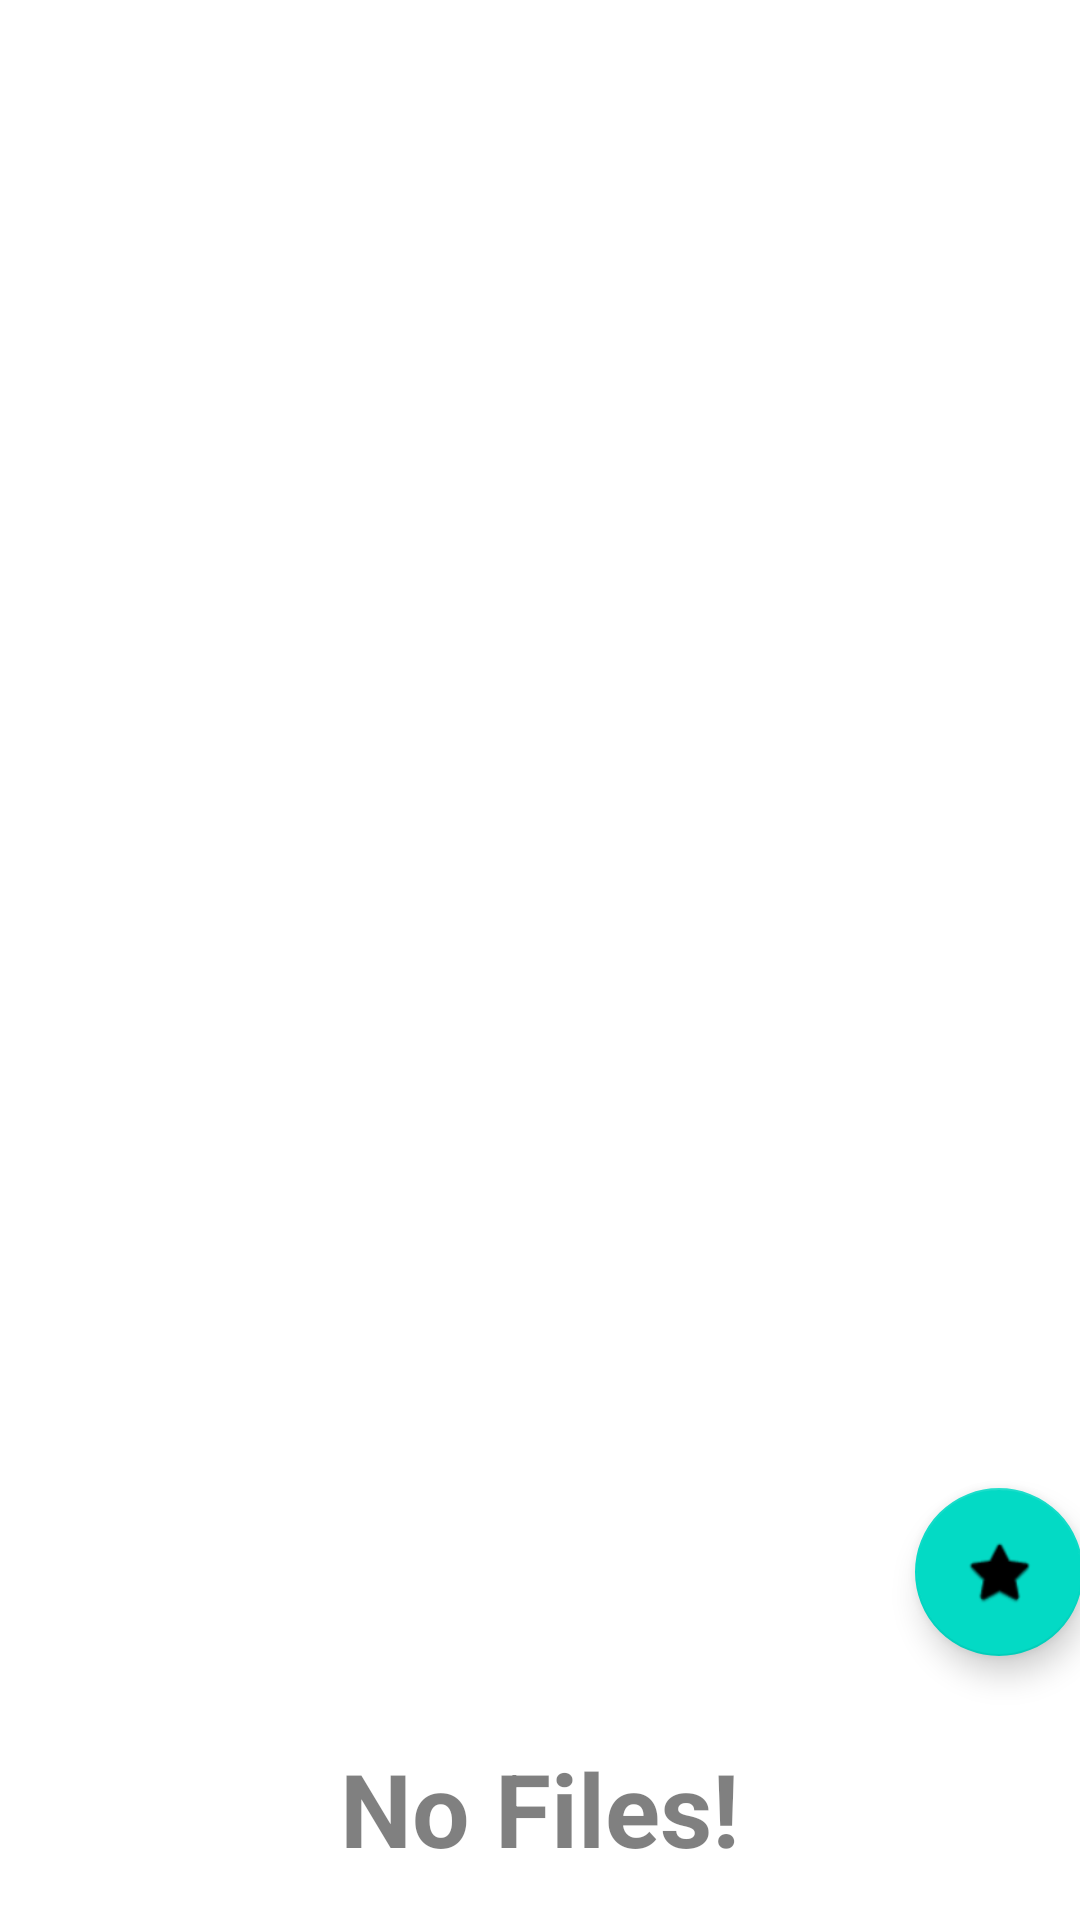

Point at icon controls on the screen. Image size 1080×1920, points as point (x, y).
star on: point (997, 1572)
